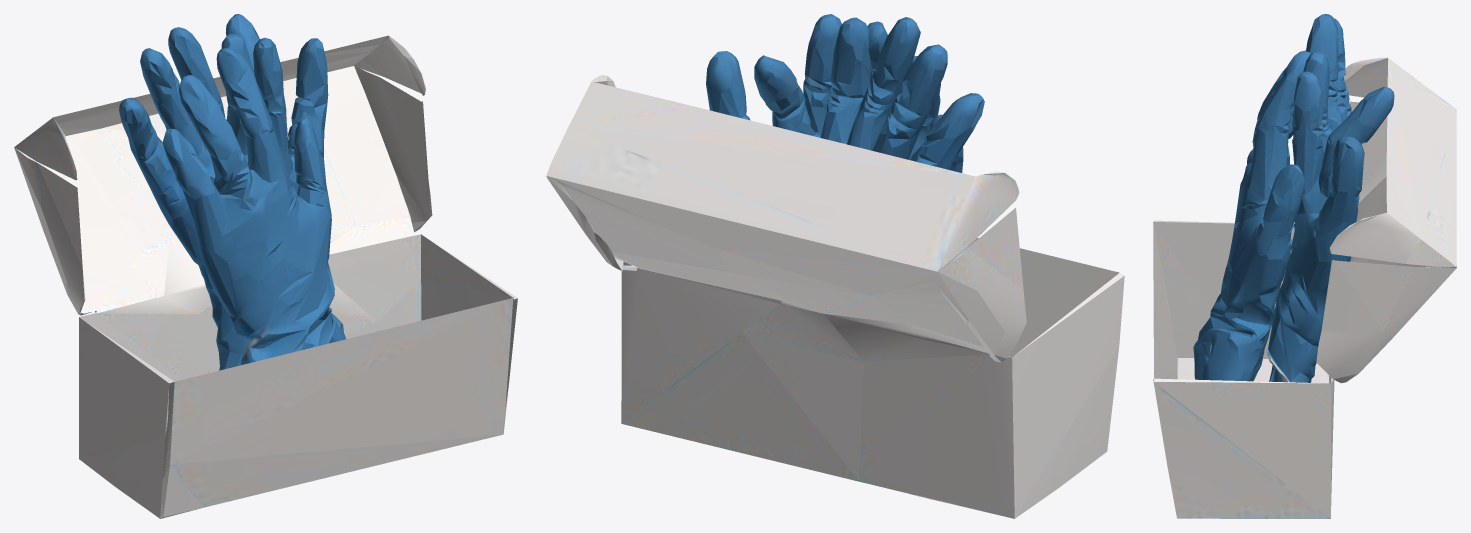
Rendered from guanti_N.glb.
The picture shows the model from 3 angles, left to right: view 1: azimuth 30°, elevation 25°; view 2: azimuth 150°, elevation 25°; view 3: azimuth 270°, elevation 25°; orthographic projection. The views are drawn at different scales.
Visible parts, largest first — view 1: Mesh_0; view 2: Mesh_0; view 3: Mesh_0.
Boxes of the visible parts, x1,y1,x2,y2 form: Mesh_0: (14, 14, 517, 518); Mesh_0: (546, 14, 1124, 518); Mesh_0: (1153, 14, 1456, 518).
Bounding box in the file's own units: 0.25 × 0.2822 × 0.198.
1 material, 1 textured.
